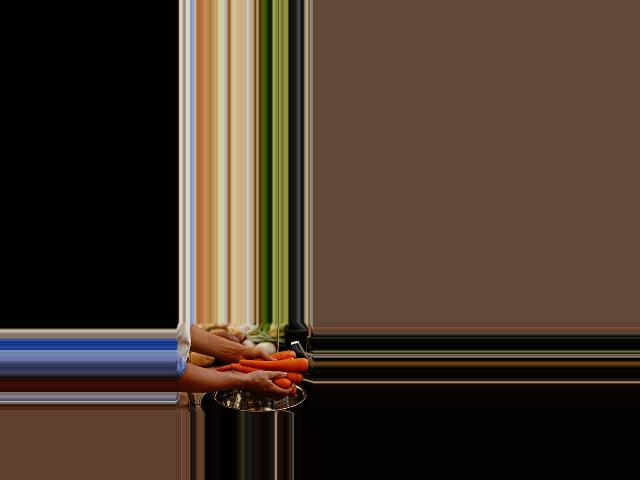carrot: (227, 360, 304, 380)
